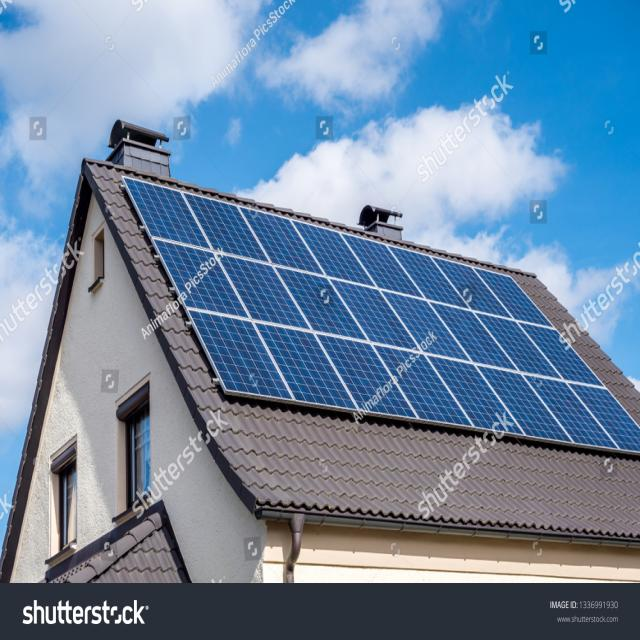clean-solar-panel: (124, 177, 640, 453)
